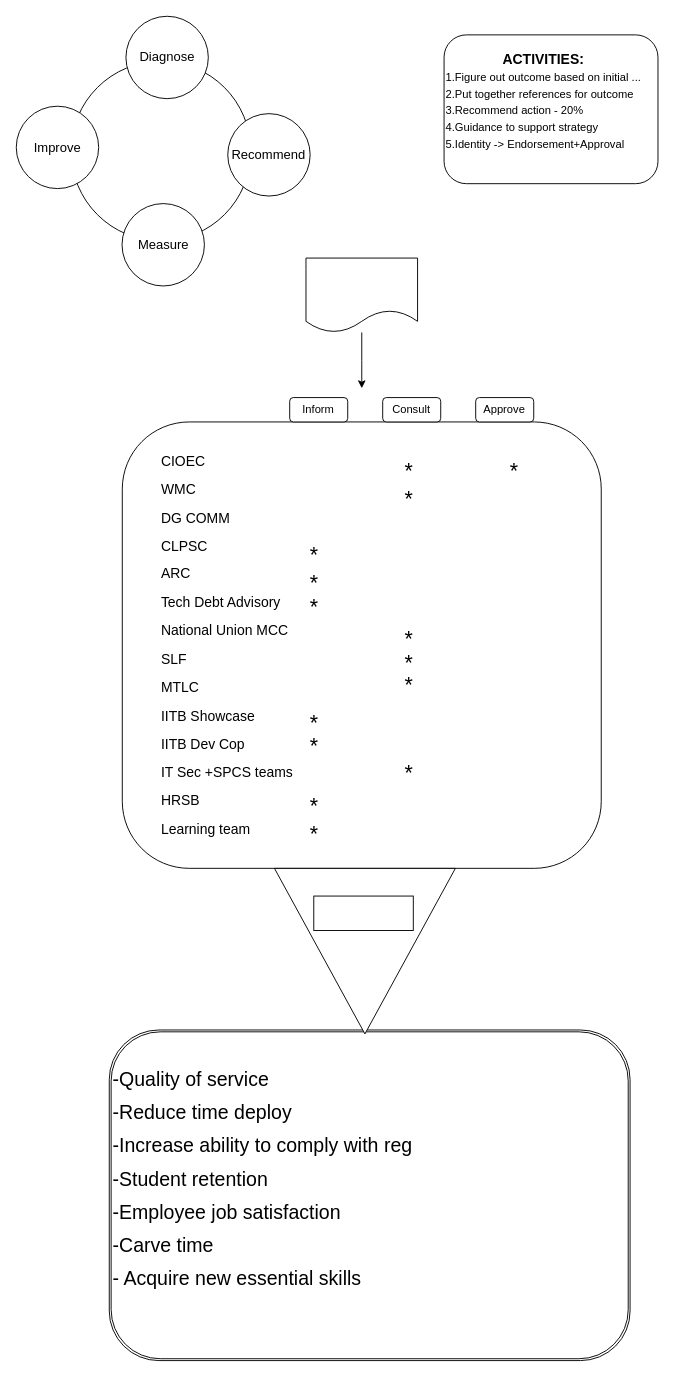
This 674x1377 diagram has some shape labels left out. The shapes that lost their labels are listed below. From the top down, each one's centre as x and y in pixels, then its label:
(160,150): CONTINUES LEARNING STRATEGY
(361,294): OUTREACHING
(363,912): OUTCOME
